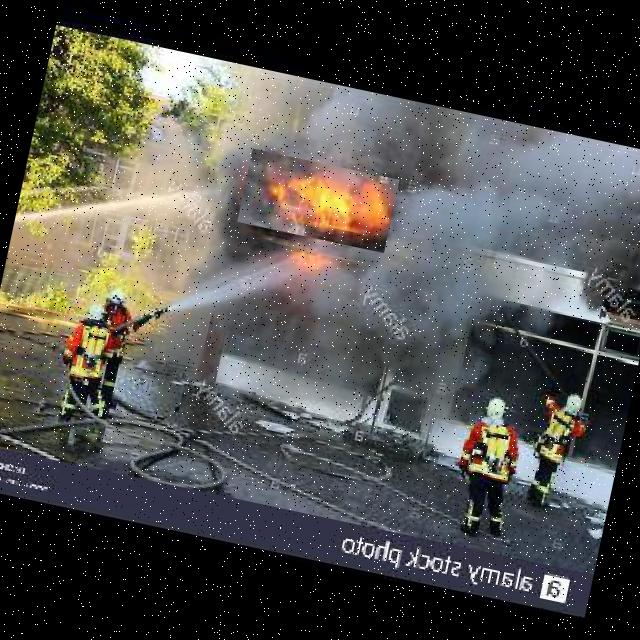fire: (237, 148, 399, 253)
